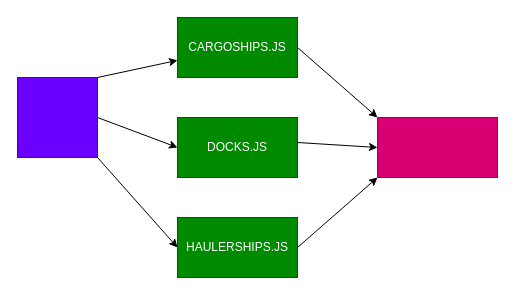
The diagram is 515 pixels wide and 295 high, and some of its shapes have lost their labels. Here are the shapes that lost their labels. From the top down, the centre of each, then its label:
At (x=57, y=117): "MAIN".
At (x=437, y=147): "DATABASE".
